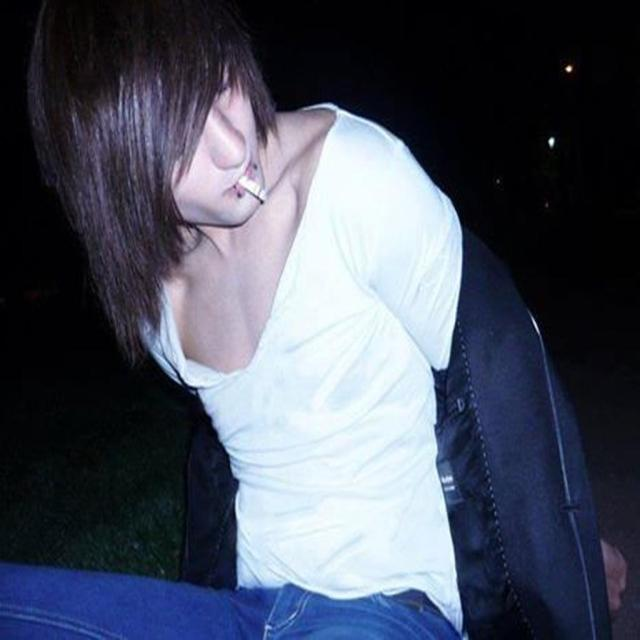smoking: (44, 1, 282, 248)
